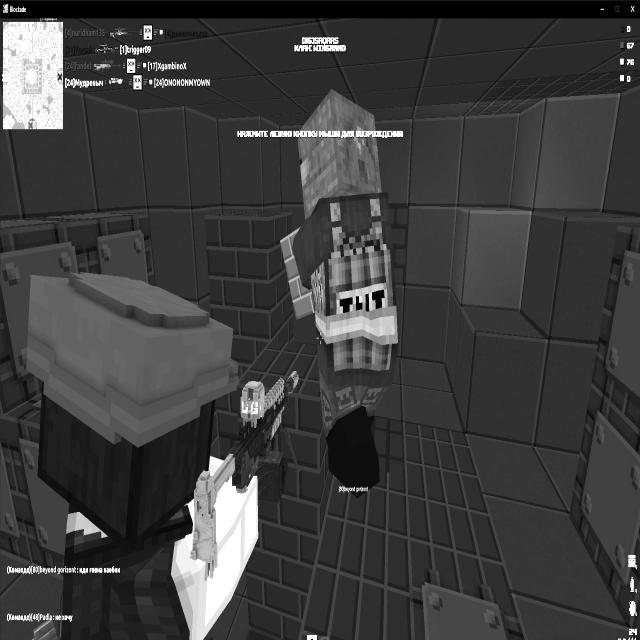Head: (29, 271, 239, 532), (297, 90, 384, 212)
Player: (25, 252, 300, 638), (280, 88, 400, 496)
